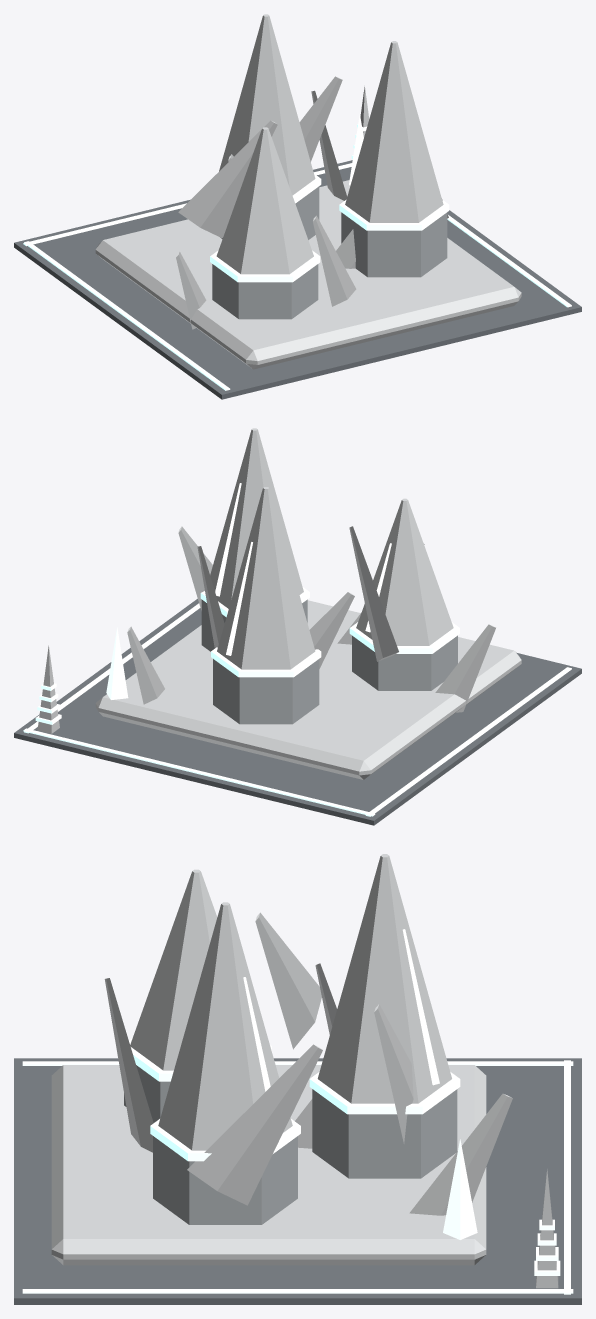
Rendered from zone_low_1_t4.glb.
The picture shows the model from 3 angles, top to bottom: view 1: azimuth 30°, elevation 25°; view 2: azimuth 150°, elevation 25°; view 3: azimuth 270°, elevation 25°; orthographic projection. The views are drawn at different scales.
Visible parts, largest first — view 1: zone_low_1_t4, detail; view 2: zone_low_1_t4, detail; view 3: zone_low_1_t4, detail.
Part boxes in pixels (<box>): zone_low_1_t4: <box>14,14,581,399</box>; detail: <box>23,85,571,390</box>; zone_low_1_t4: <box>14,428,581,825</box>; detail: <box>23,603,571,816</box>; zone_low_1_t4: <box>14,854,581,1304</box>; detail: <box>22,1060,573,1294</box>.
Bounding box in the file's own units: 19.6 × 15.12 × 19.6.
